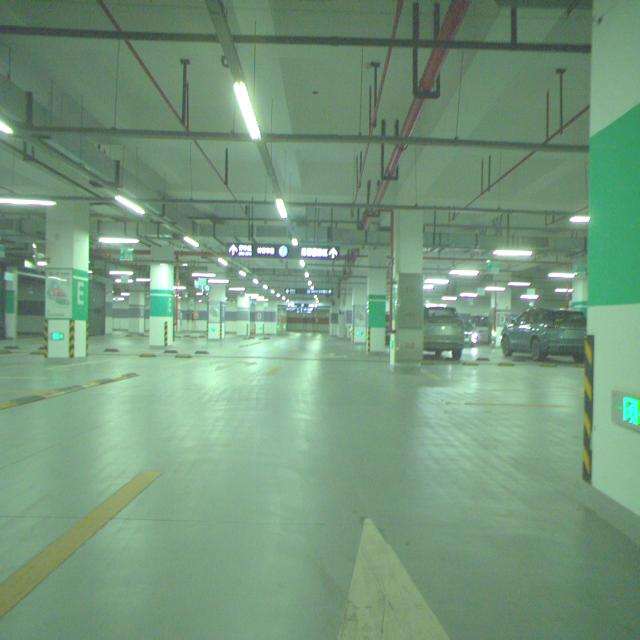pillar: (45, 200, 89, 358), (150, 262, 174, 347)
